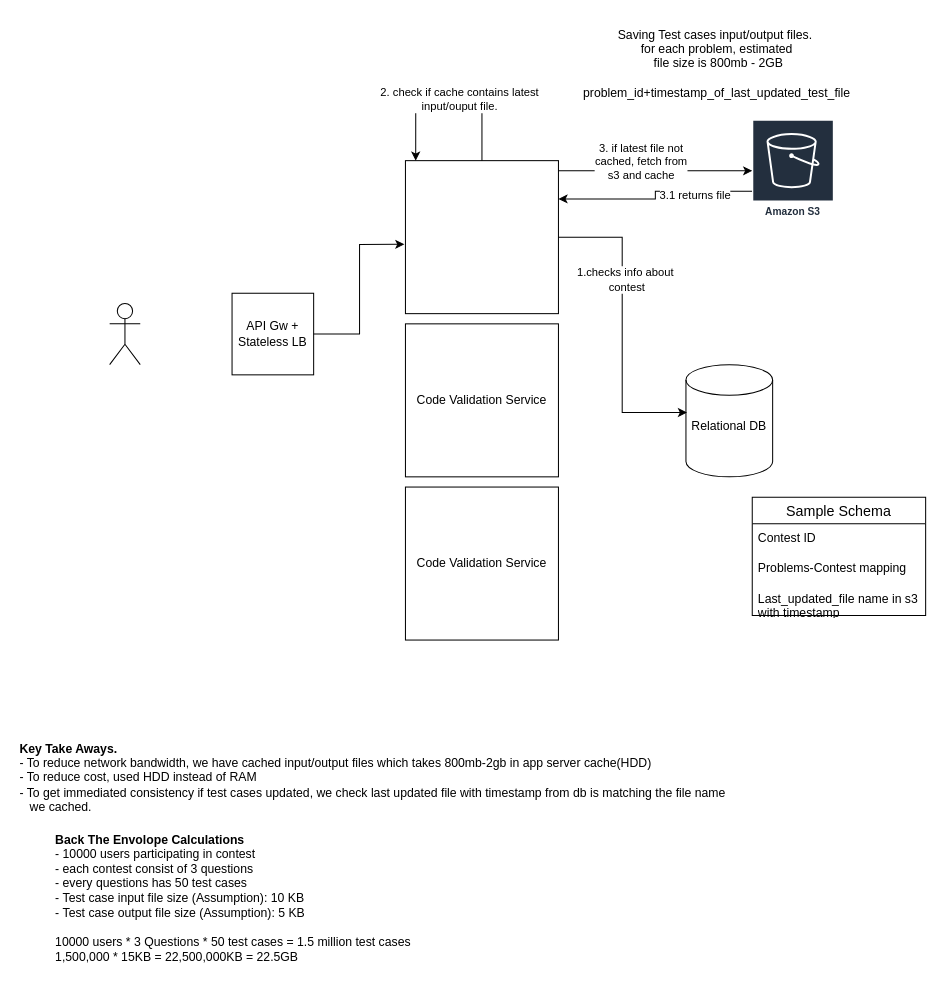
Image size: 944x986. Some labels were removed from this diagram. Each missing label, with the centre of its shape:
Actor: (124,333)
Code Validation Service caches input/output files in HDD/SSD: (481,237)
